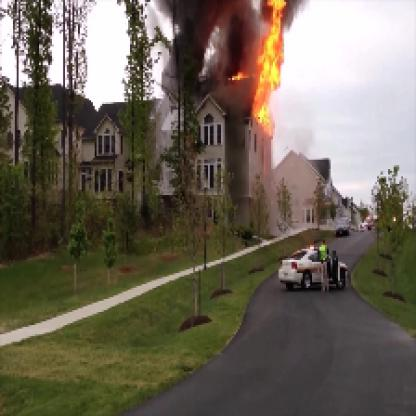Fire: (230, 2, 294, 137)
Smoke: (160, 2, 258, 98)
